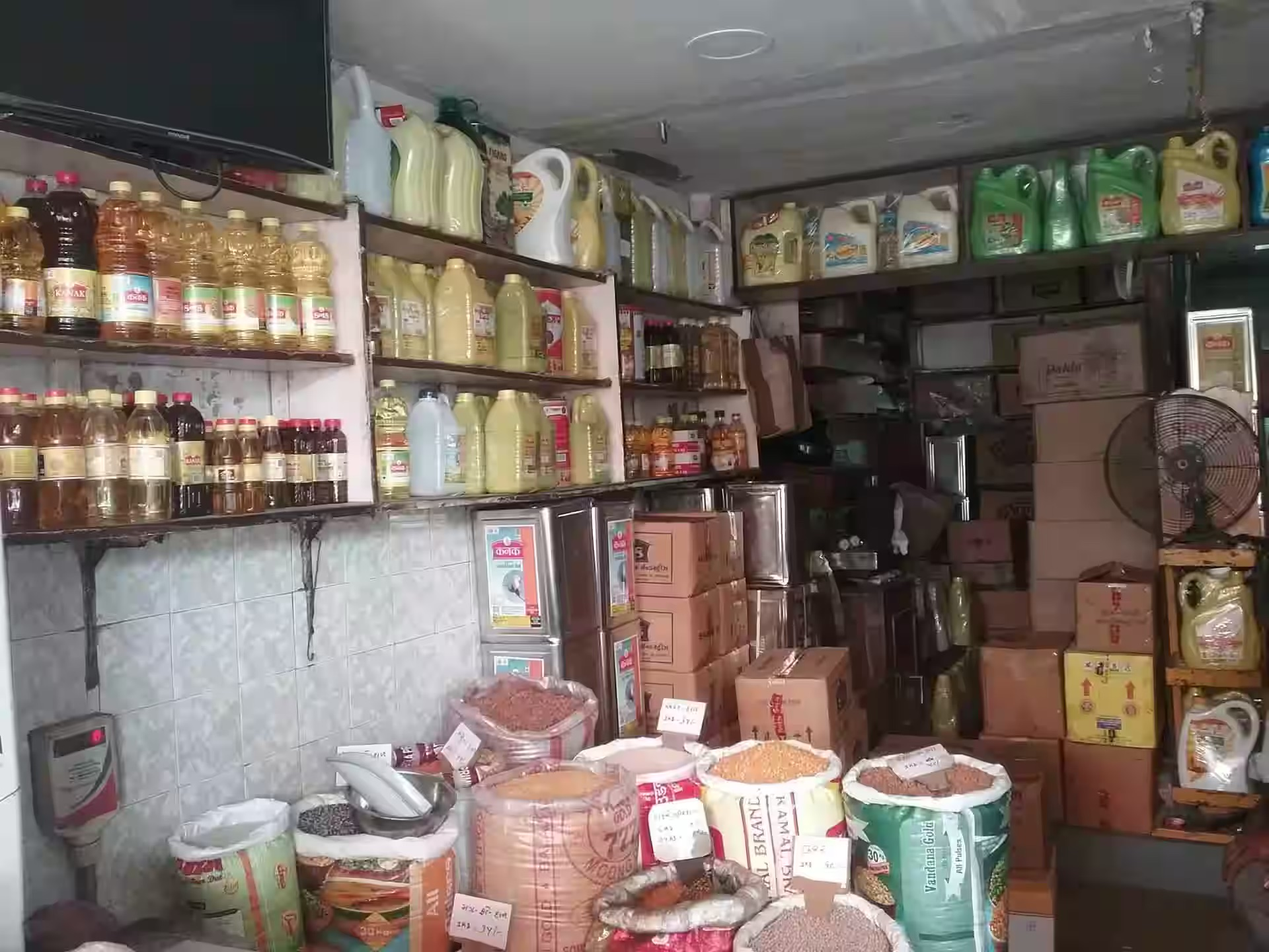other: (377, 468, 761, 518)
